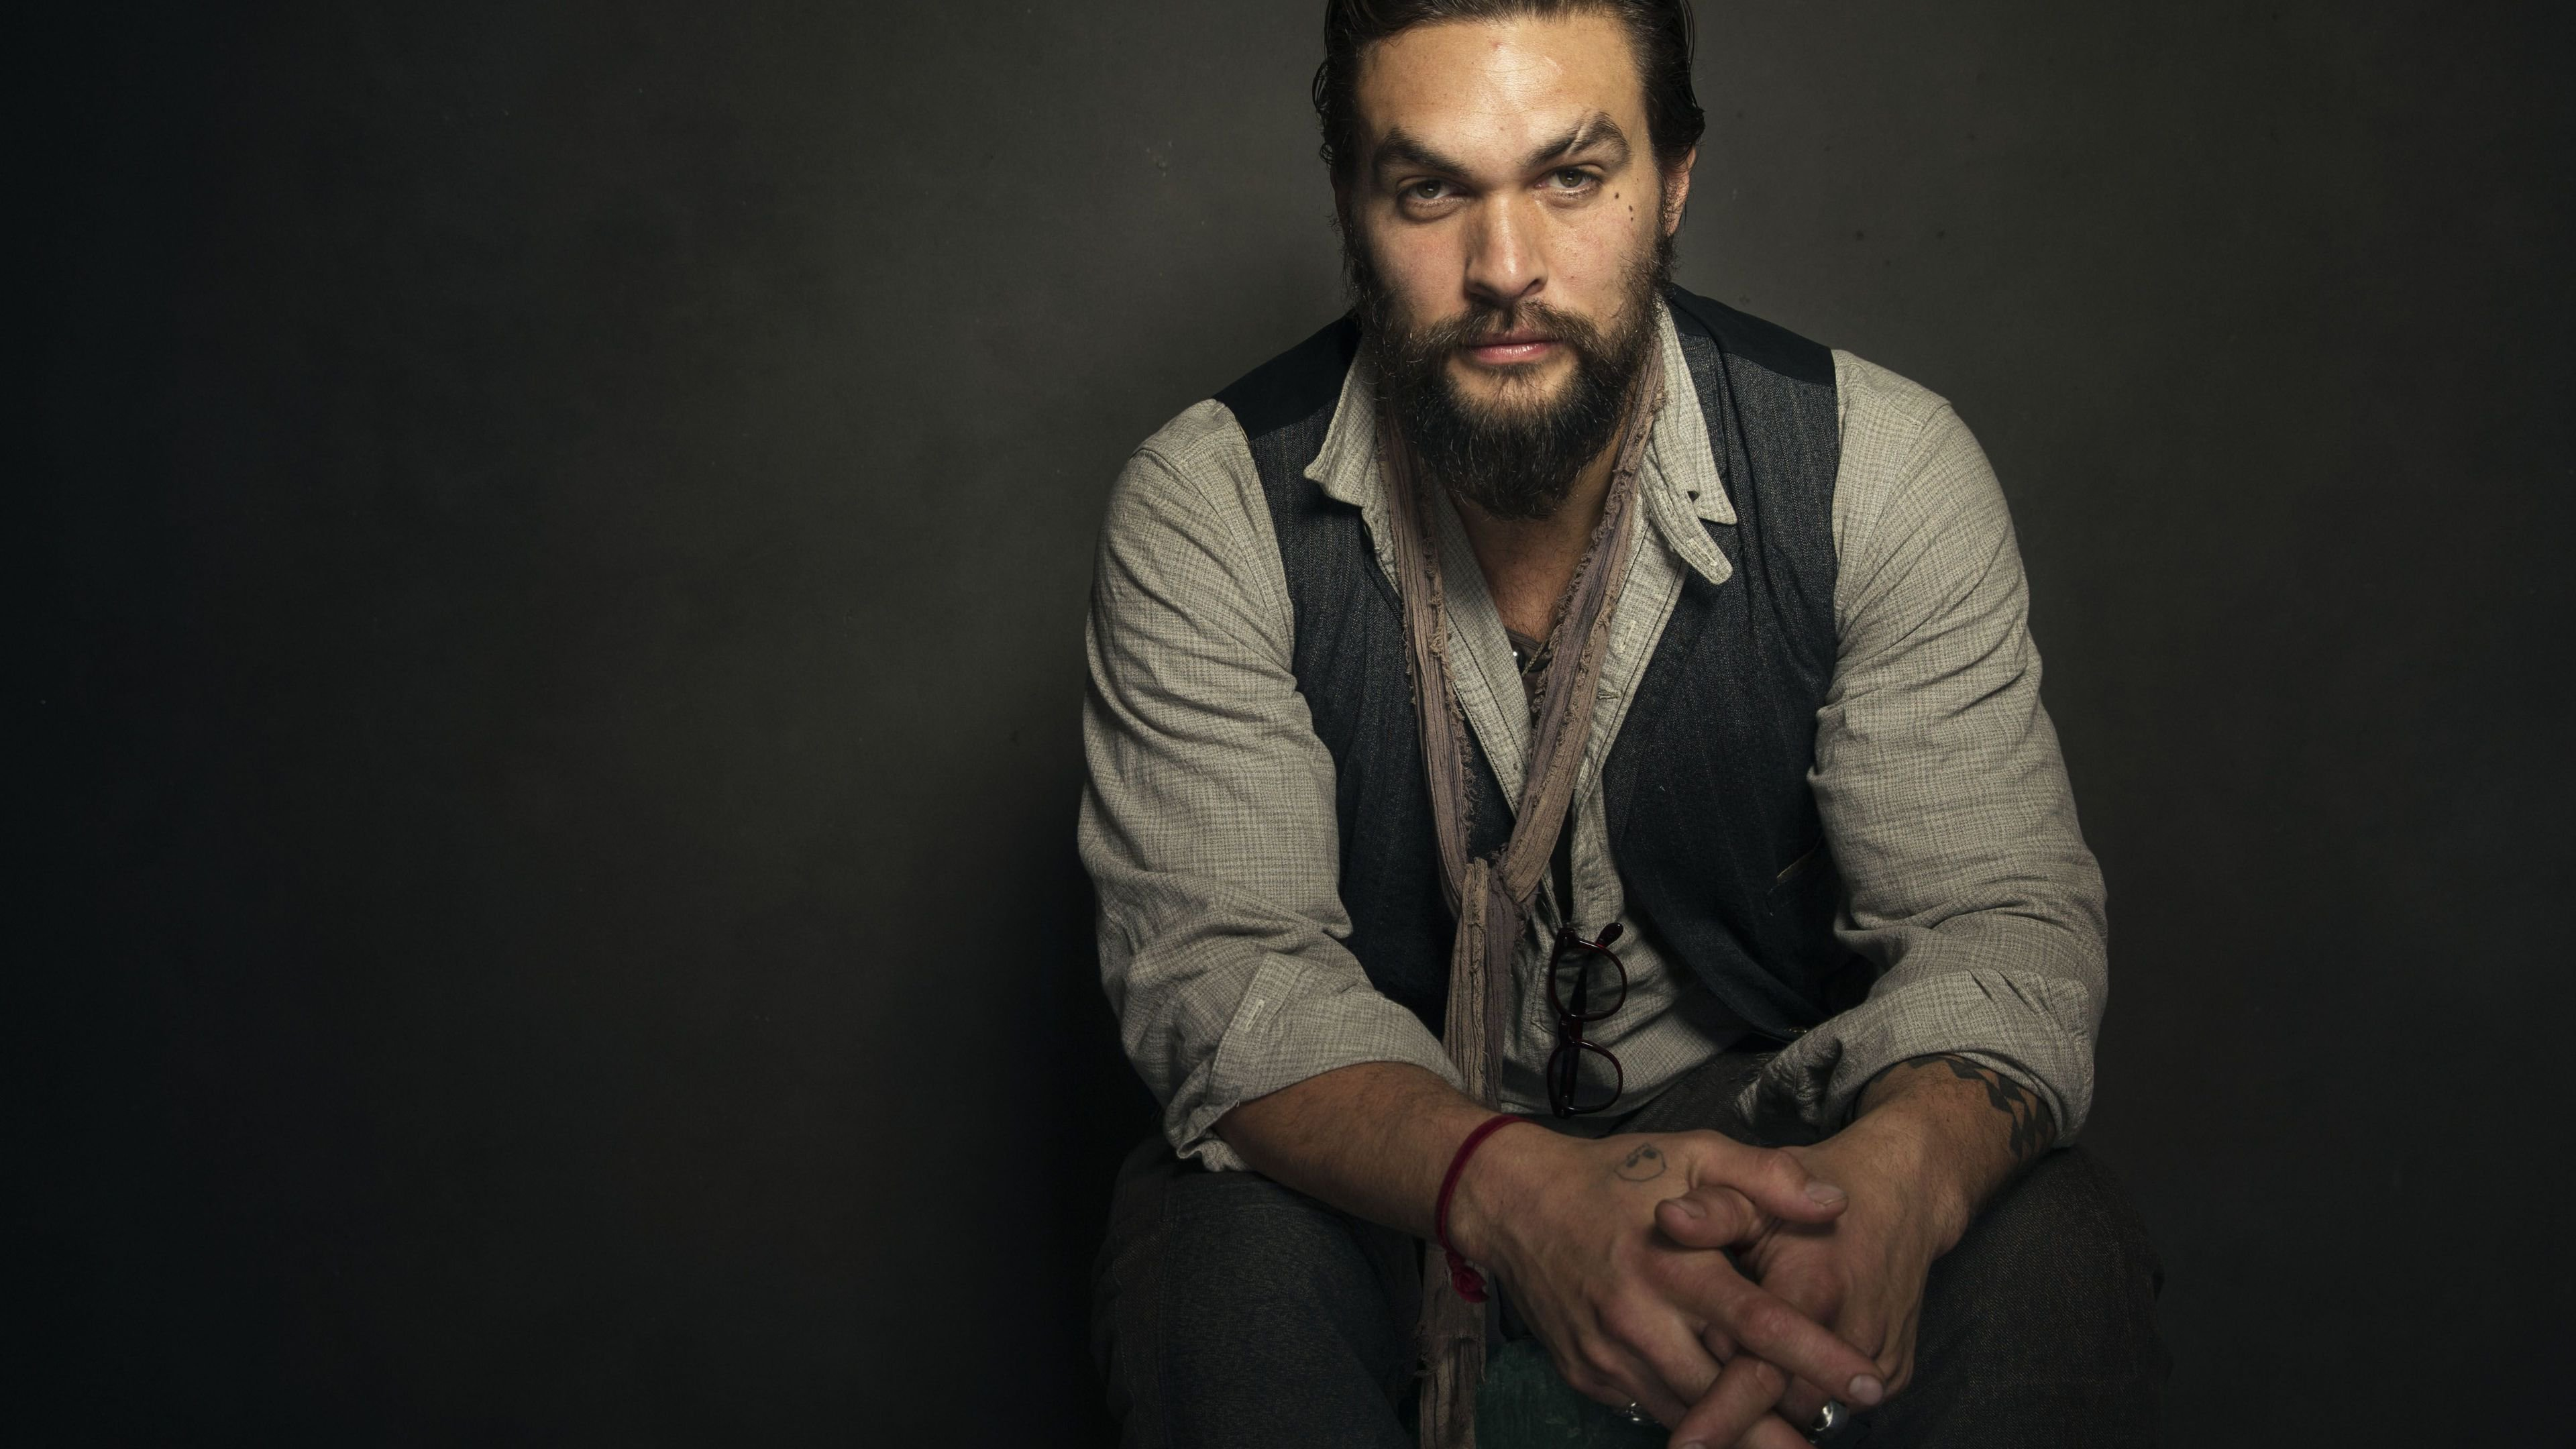noMask: (1271, 7, 1745, 482)
